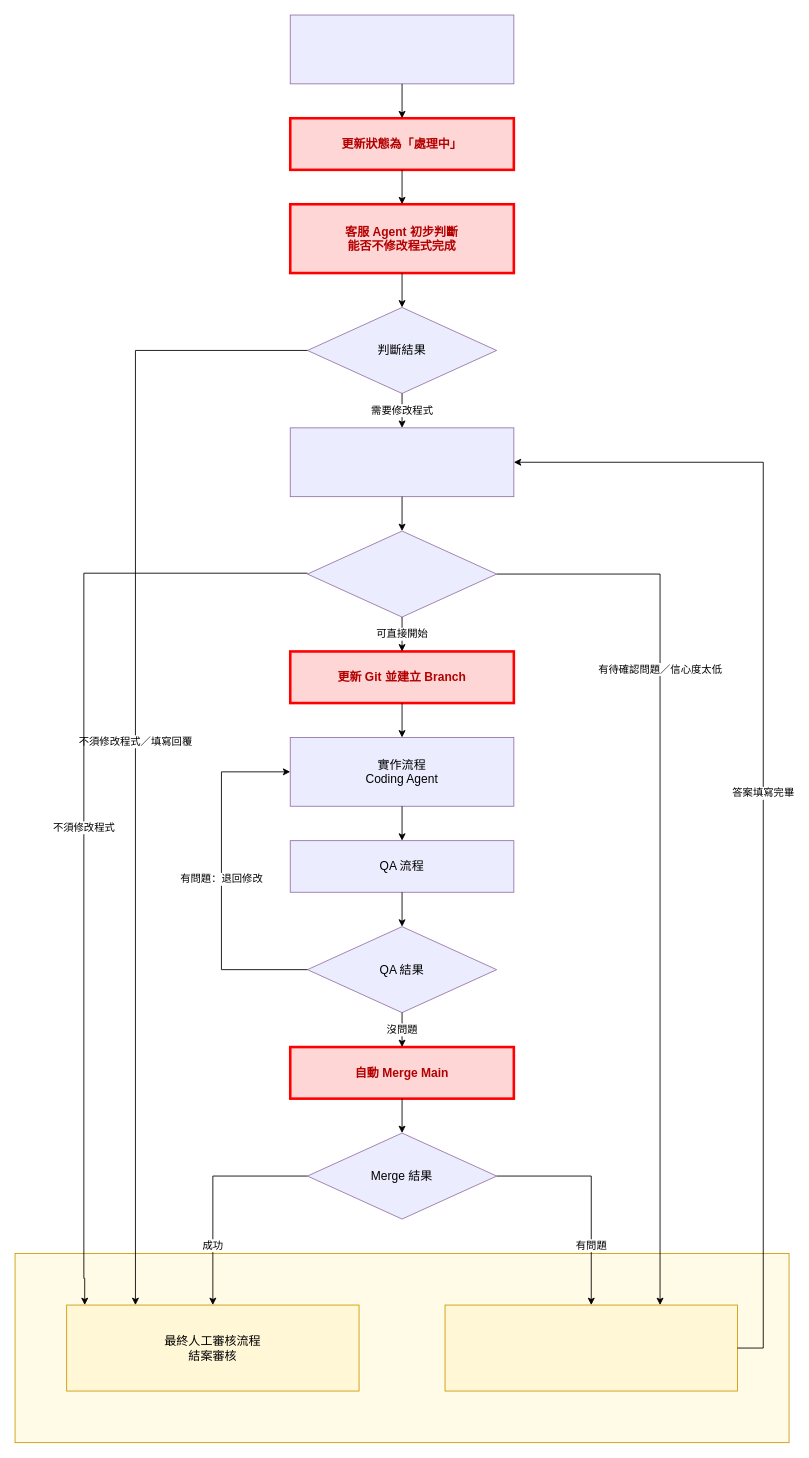
Some shapes in this 809 by 1458 pixel diagram are drawn without their labels. The shapes that lost their labels are listed below. From the top down, each one's box as (x1, y1, x2, y2) in pixels, then its label:
(289, 14, 514, 84): 抓取資料 Odoo + eService 雙來源同步
(289, 427, 514, 497): 分析流程 MODE_A／MODE_B 含信心度判斷
(307, 530, 497, 617): 分析結果
(14, 1253, 789, 1443): 任務負責人（人工區塊）
(444, 1304, 737, 1391): 人工問答流程 回覆待確認問題
